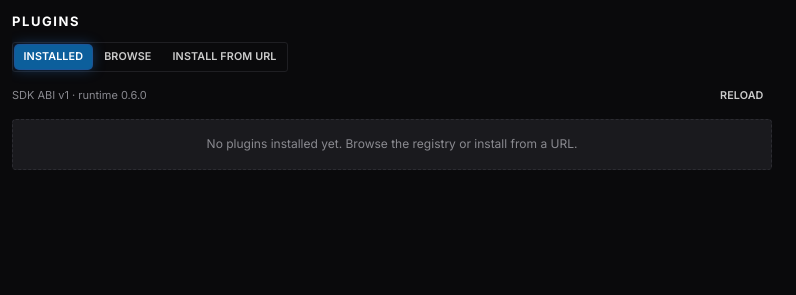
Test: PluginsPanel — sub-tab routing › switches to the InstallFromUrl tab on click
This screenshot has width=796, height=295.
Click the tab "INSTALL FROM URL" at [225, 57], box [164,45,285,69]
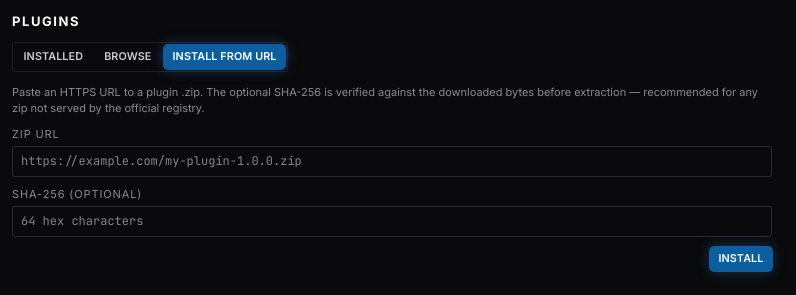
Expected: the form with test id "plugins-install-from-url" is shown
